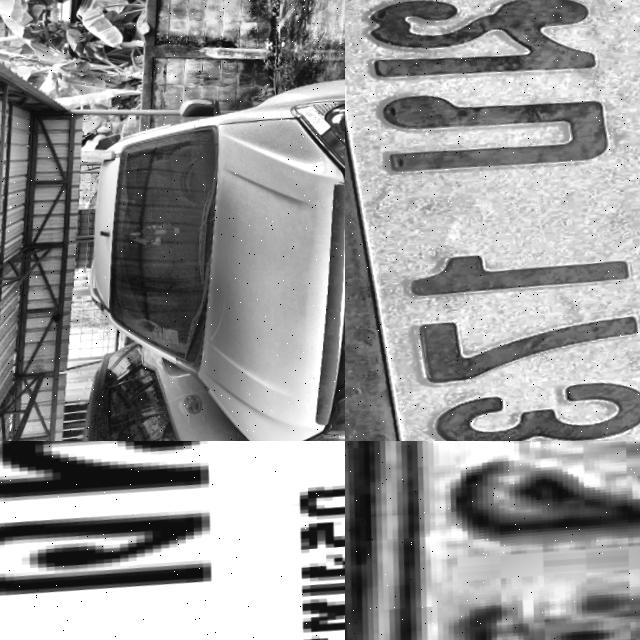license-plate: (345, 0, 640, 441), (0, 441, 345, 640), (345, 441, 640, 640)
